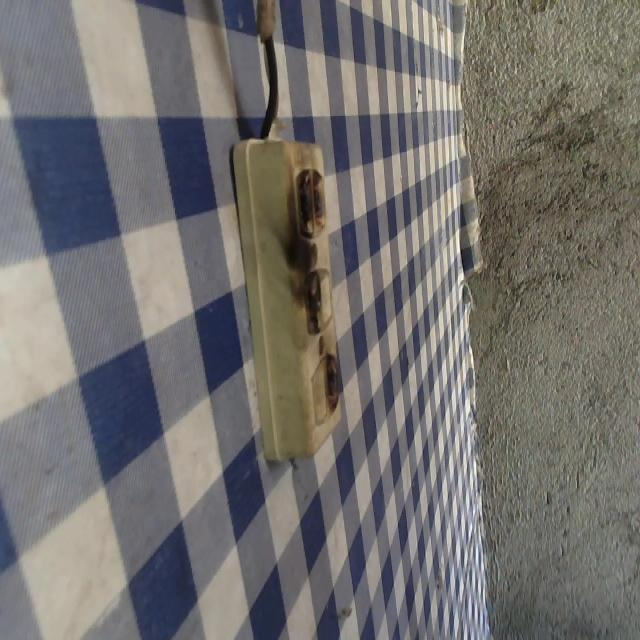-: (286, 155, 333, 245), (290, 263, 331, 341), (318, 349, 344, 416)
